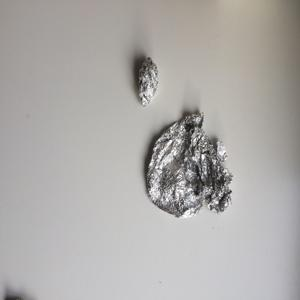metal: (134, 110, 243, 225), (132, 60, 169, 110)
